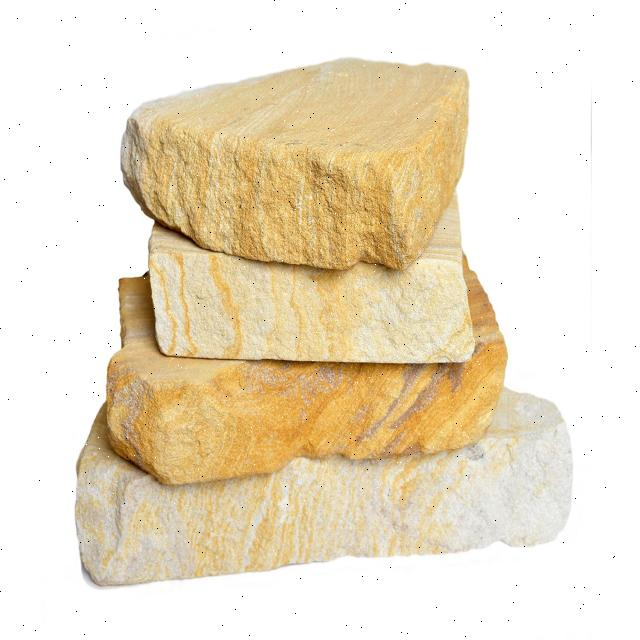Sedimentary: (65, 51, 581, 588)
